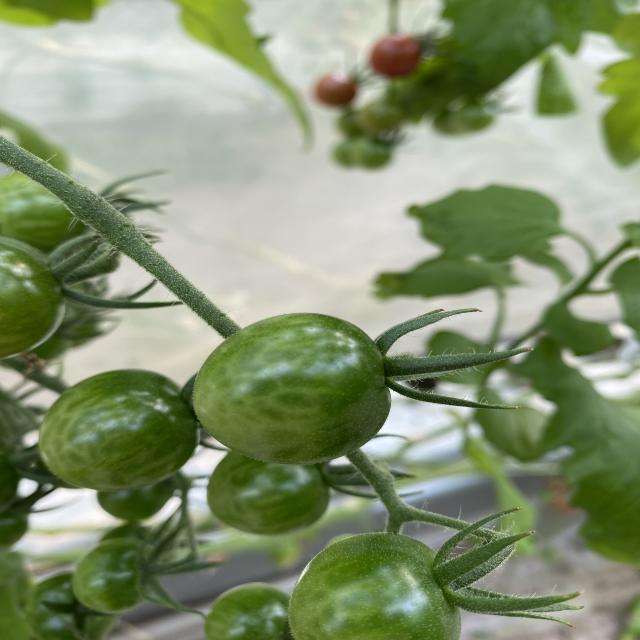c-unriped: (191, 312, 391, 465), (38, 368, 198, 491), (287, 533, 462, 639), (208, 450, 330, 535), (0, 235, 66, 360)
